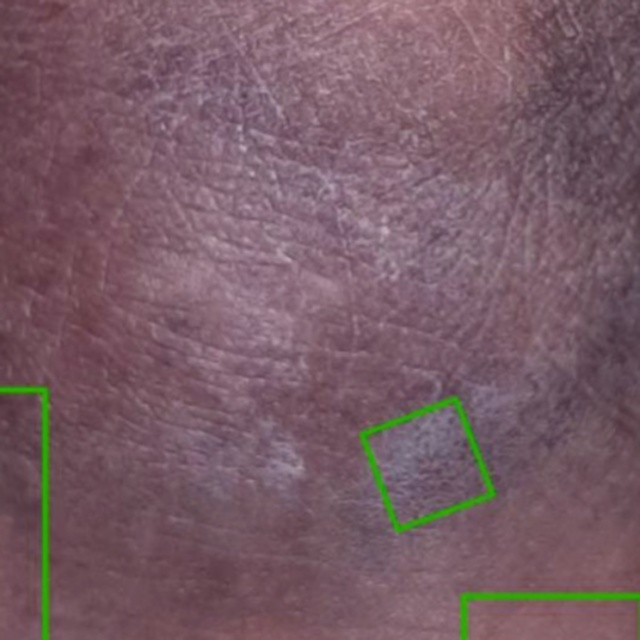Contact Dermatitis: (362, 400, 492, 530)
